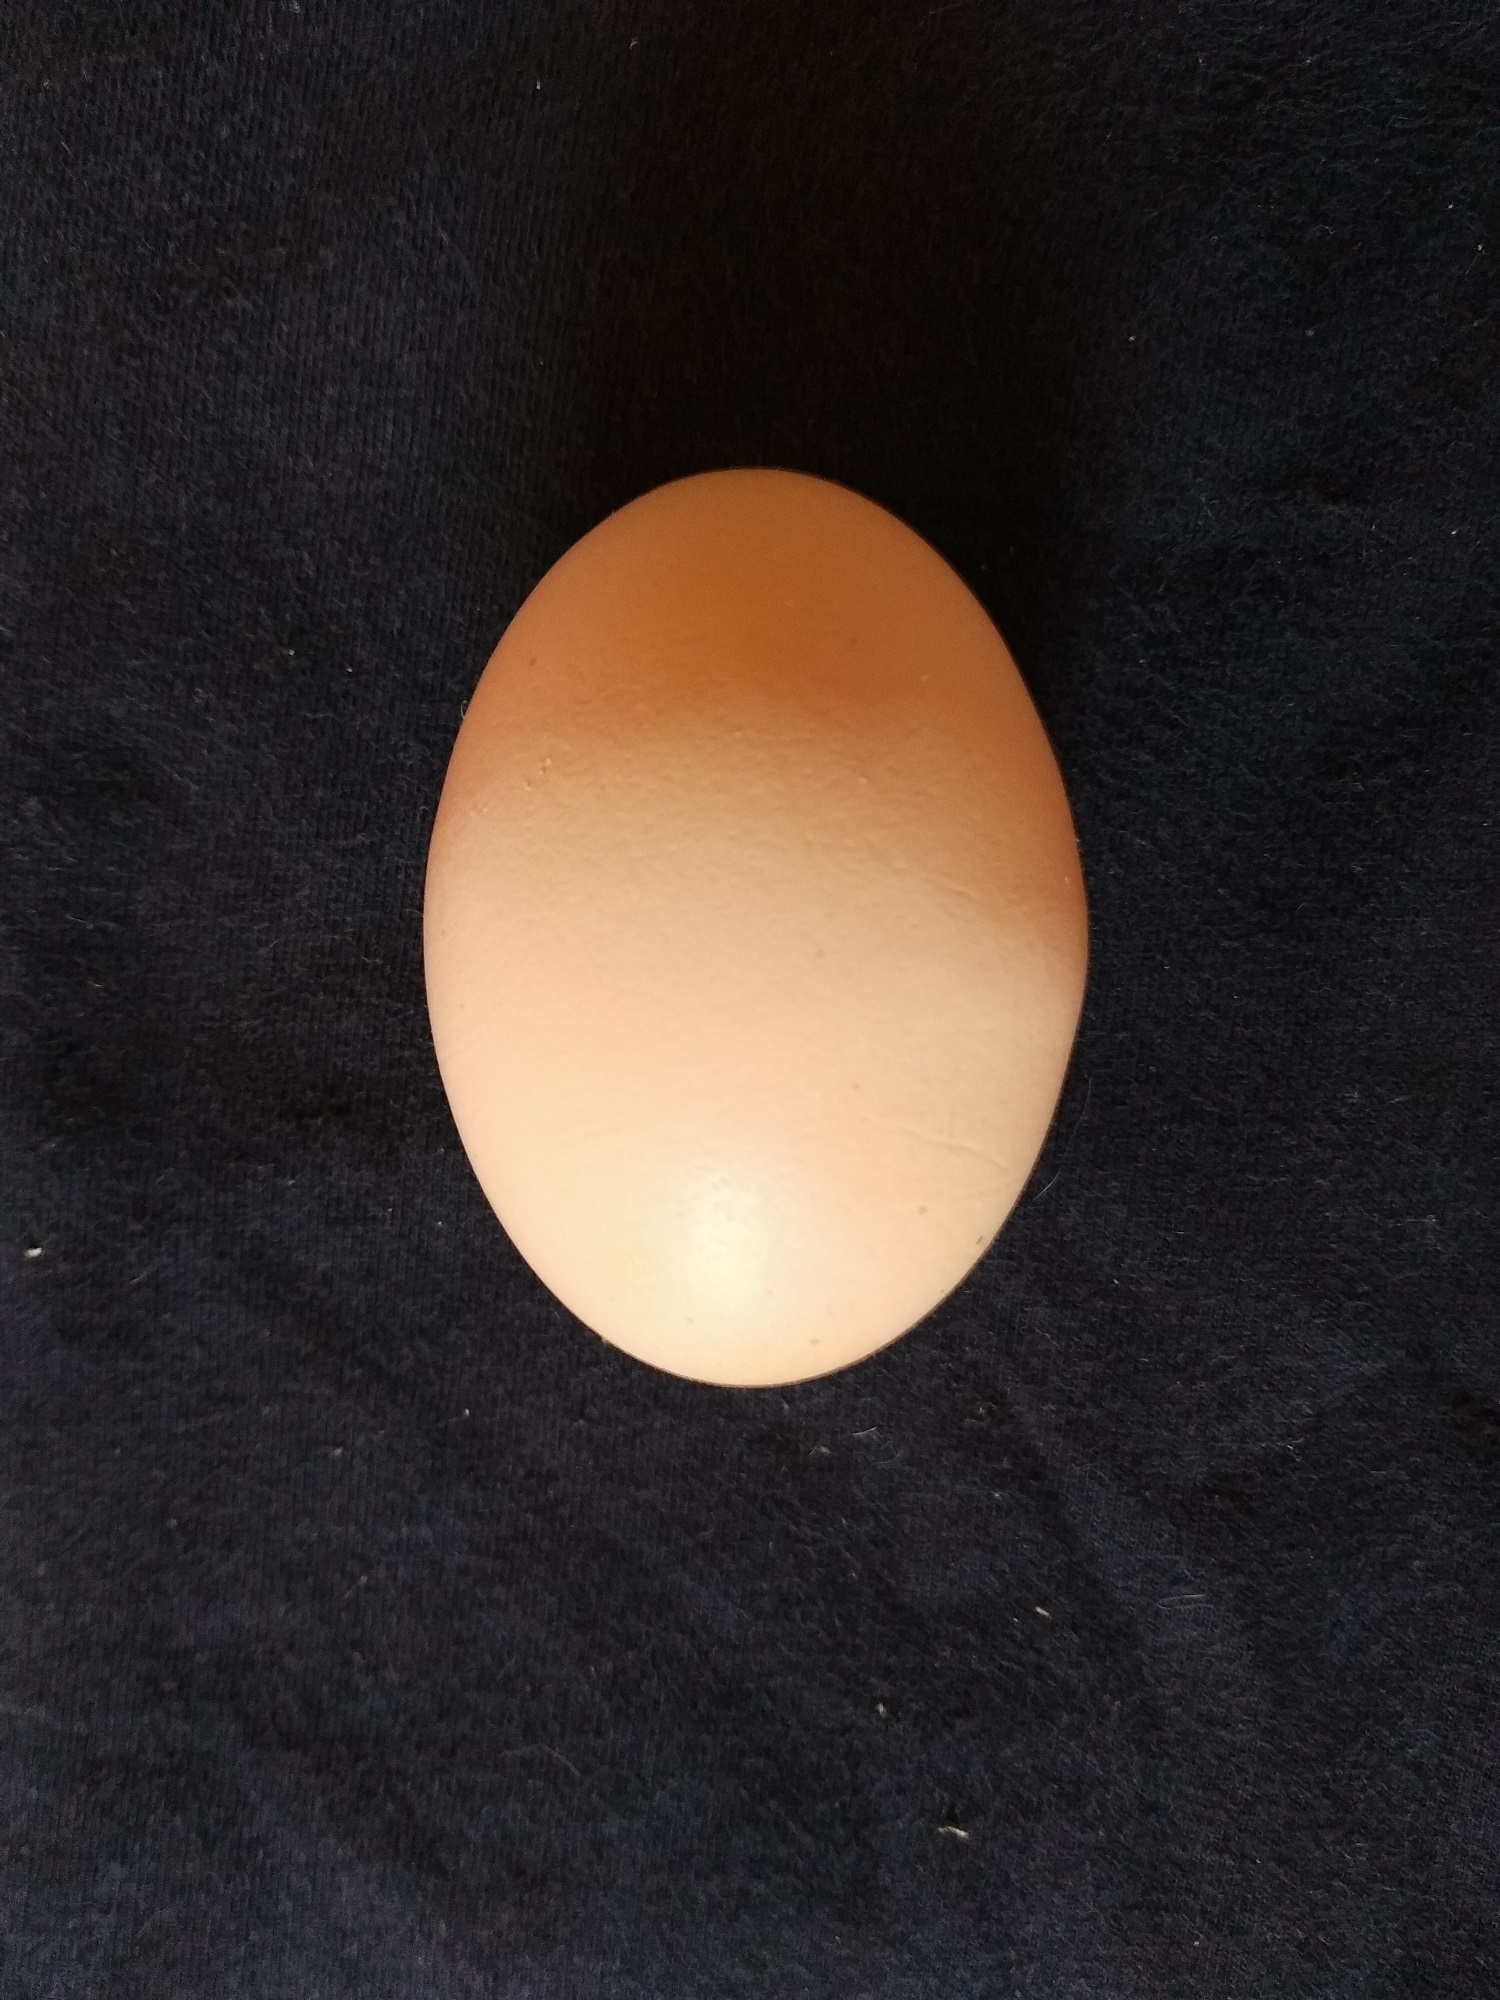Female: (414, 466, 1101, 1395)
